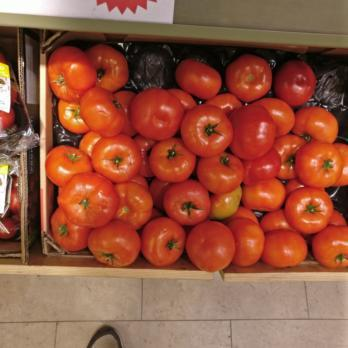Tomato: (222, 53, 311, 267), (45, 46, 138, 239), (140, 87, 223, 270), (292, 104, 348, 265)
